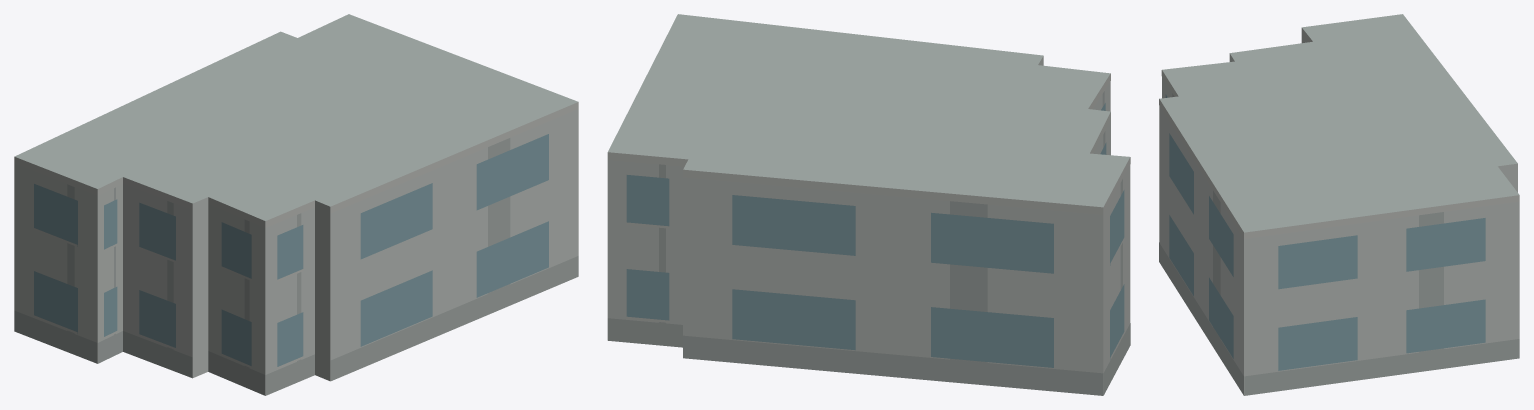
The model's file is residential-7a02e040-17b2-46dd-8cb9-c622bfdae003.glb.
3 views of the same model, side by side, from view 1: azimuth 30°, elevation 25°; view 2: azimuth 150°, elevation 25°; view 3: azimuth 270°, elevation 25° (orthographic). The views are drawn at different scales.
Parts seen in each view (by area): view 1: residential-7a02e040-17b2-46dd-8cb9-c622bfdae003.tmp; view 2: residential-7a02e040-17b2-46dd-8cb9-c622bfdae003.tmp; view 3: residential-7a02e040-17b2-46dd-8cb9-c622bfdae003.tmp.
Part boxes in pixels (x1=…): residential-7a02e040-17b2-46dd-8cb9-c622bfdae003.tmp: x1=14, y1=14, x2=578, y2=395; residential-7a02e040-17b2-46dd-8cb9-c622bfdae003.tmp: x1=607, y1=14, x2=1130, y2=395; residential-7a02e040-17b2-46dd-8cb9-c622bfdae003.tmp: x1=1159, y1=14, x2=1519, y2=395.
Bounding box in the file's own units: 17.52 × 6.1 × 12.21.
